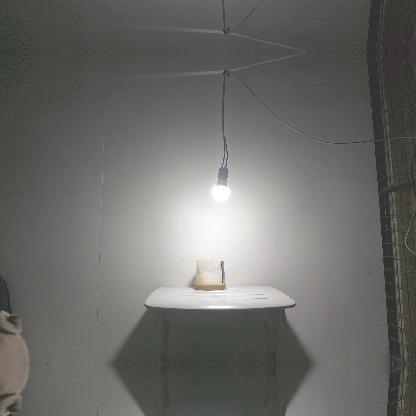Lady-s-Choice: (194, 258, 226, 290)
